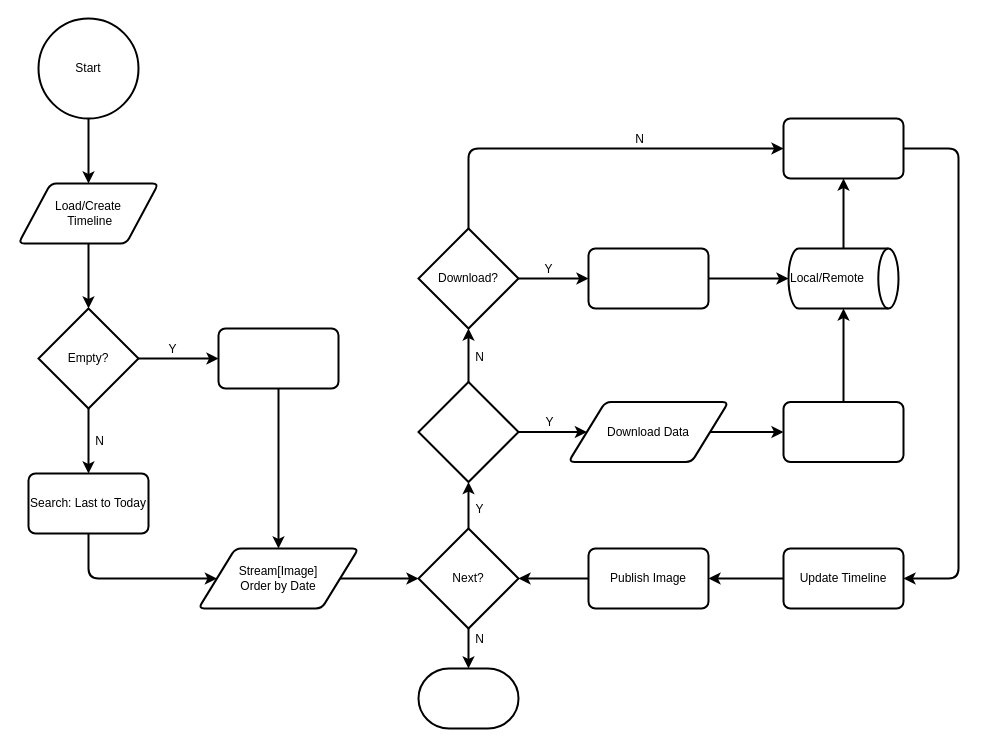
This 984x746 diagram has some shape labels left out. Here are the shapes that lost their labels. From the top down, the box of each, then its label:
(782, 117, 904, 179): Expose Link
(587, 247, 709, 309): Download Image
(217, 327, 339, 389): Search: Begin to Today
(417, 380, 519, 482): Process?
(782, 400, 904, 462): Process
(417, 667, 519, 729): Stop
